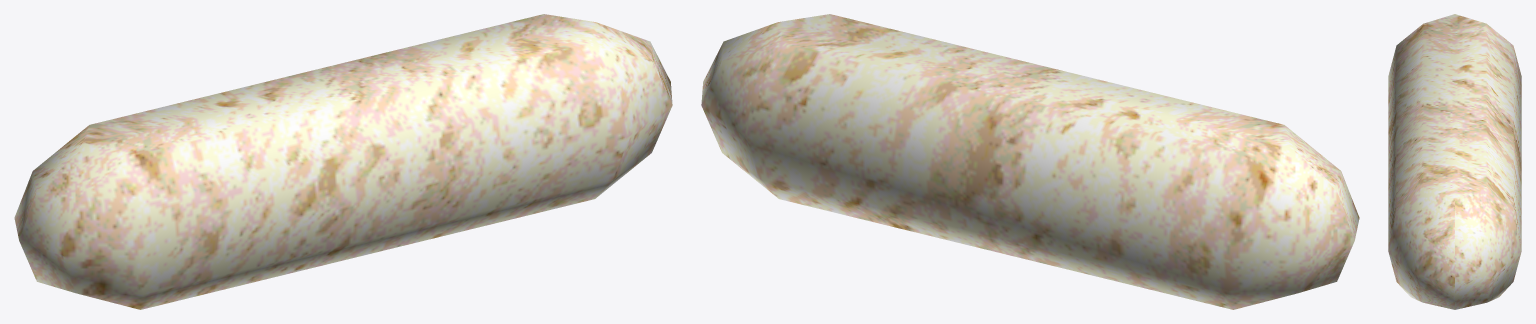
File: VFX_HotdogDough.fbx
3 renders of one model, left to right at view 1: azimuth 30°, elevation 25°; view 2: azimuth 150°, elevation 25°; view 3: azimuth 270°, elevation 25°, orthographic. The views are drawn at different scales.
Visible parts, largest first — view 1: Hot Dog Dough; view 2: Hot Dog Dough; view 3: Hot Dog Dough.
Part boxes in pixels (bbox=[...]): Hot Dog Dough: bbox=[14, 14, 672, 309]; Hot Dog Dough: bbox=[701, 14, 1359, 309]; Hot Dog Dough: bbox=[1388, 14, 1521, 309].
Bounding box in the file's own units: 0.1626 × 0.0355 × 0.0388.
